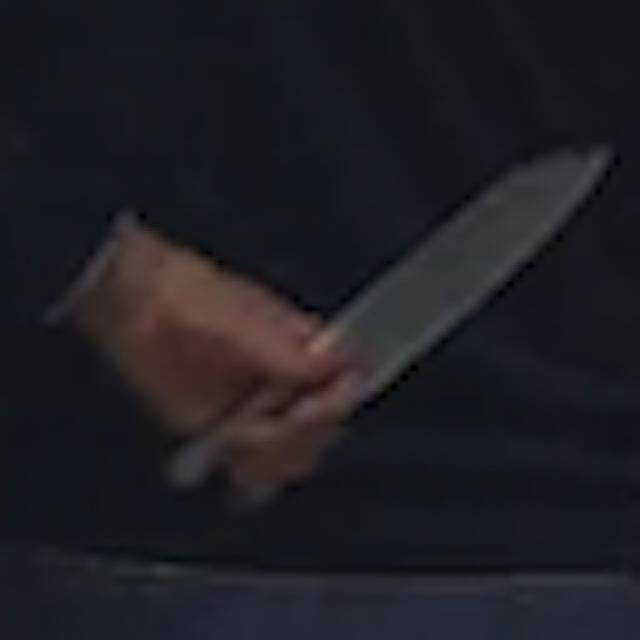suspicion: (6, 27, 625, 518), (353, 137, 619, 410)
